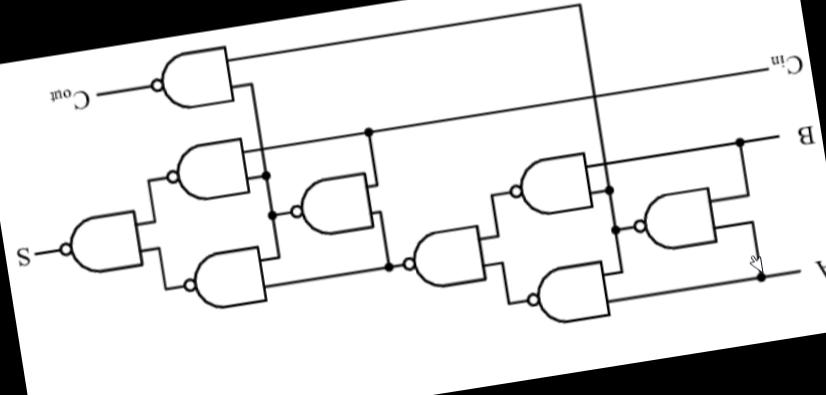nand: (176, 236, 276, 318), (50, 198, 146, 283), (517, 254, 616, 336), (142, 35, 239, 118), (393, 219, 492, 298), (628, 181, 724, 258), (156, 133, 256, 206), (284, 166, 376, 243), (501, 148, 596, 222)
